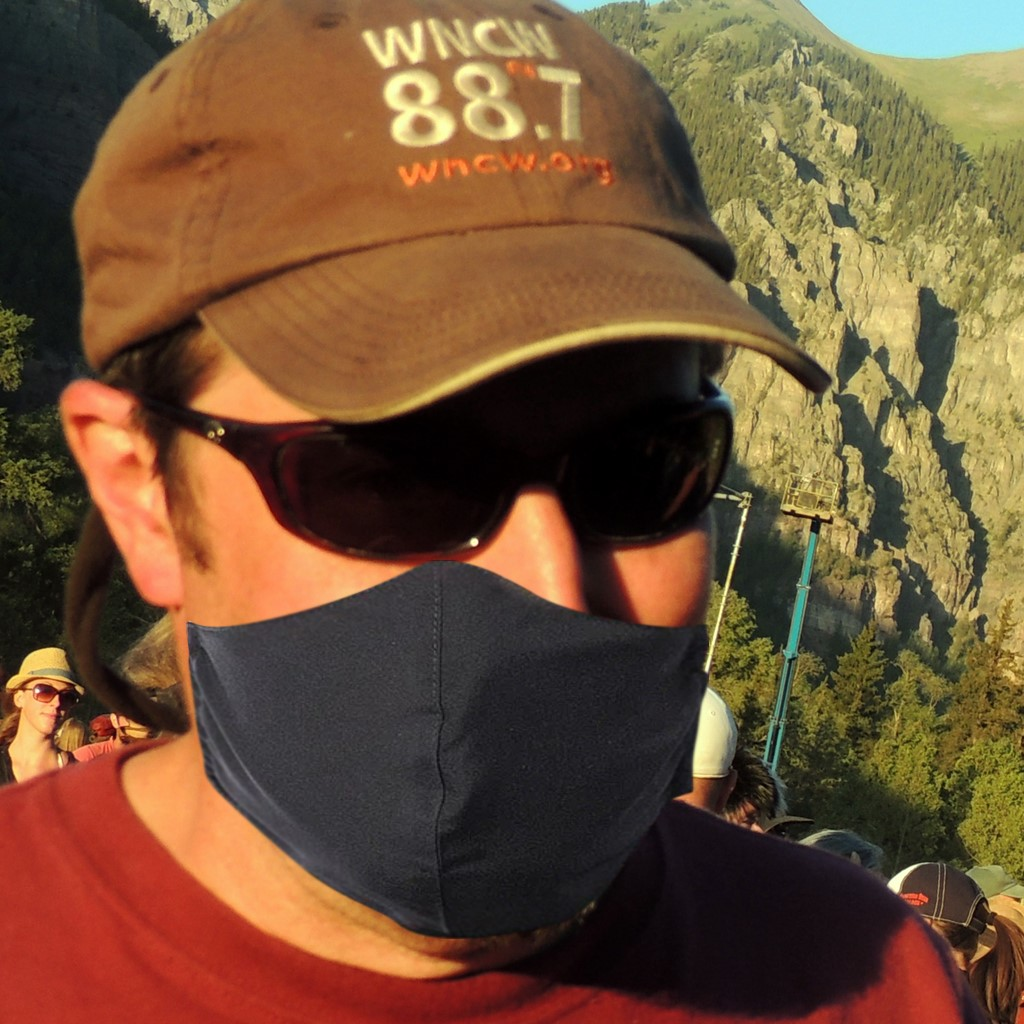con_mascara: (154, 282, 722, 954)
